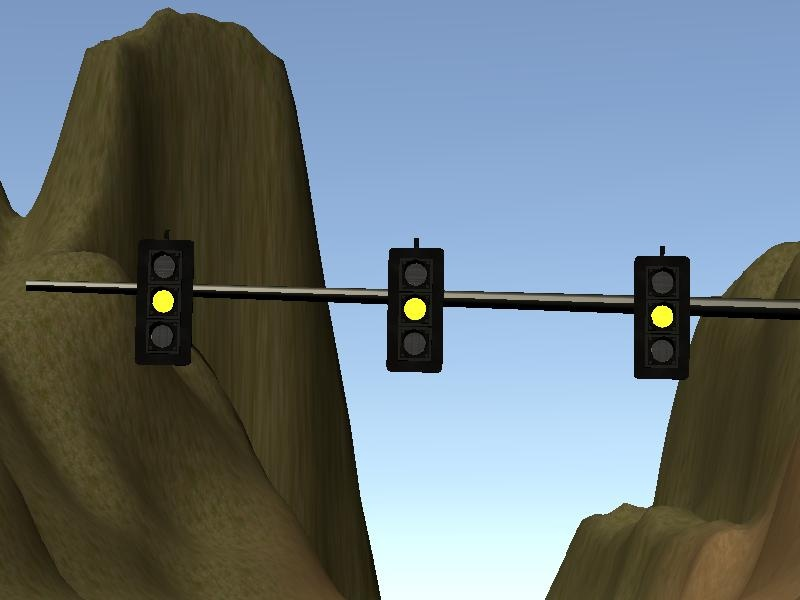yellow: (385, 245, 446, 376), (133, 237, 192, 368), (632, 253, 690, 379)
